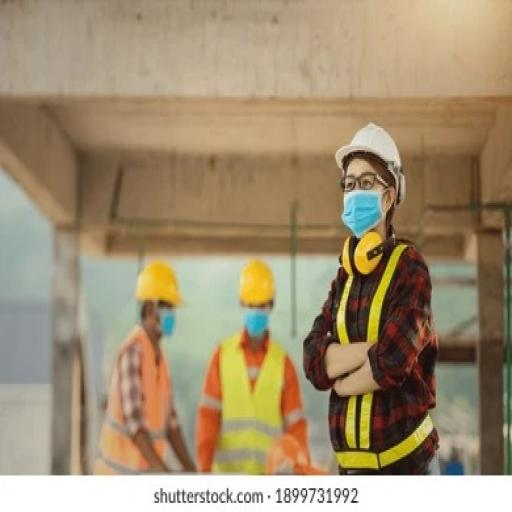mask: (340, 191, 390, 238), (244, 307, 274, 344), (159, 306, 181, 340)
